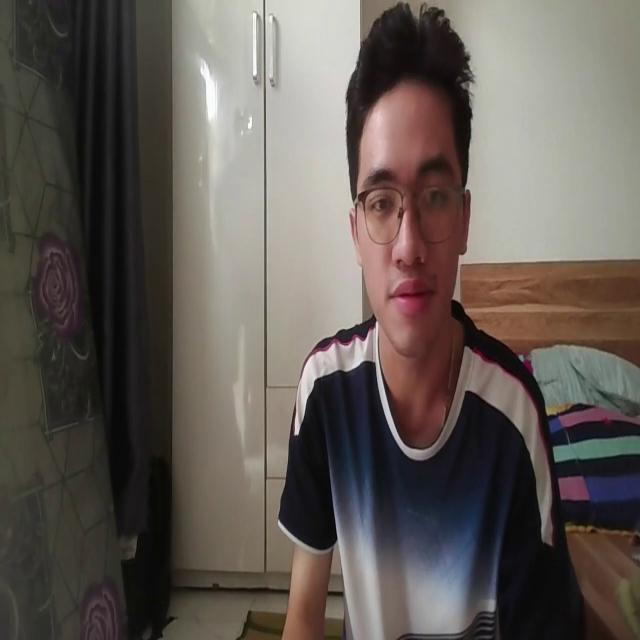student: (282, 2, 570, 640)
